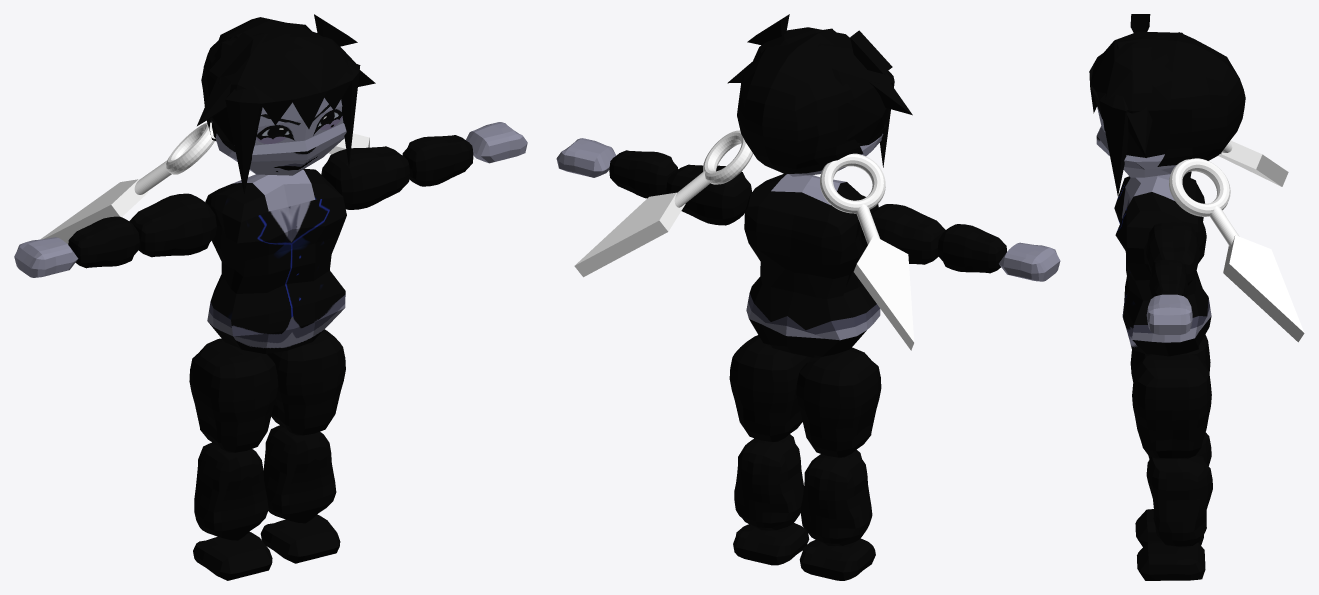
The model's file is student-09.glb.
3 views of the same model, side by side, from view 1: azimuth 30°, elevation 25°; view 2: azimuth 150°, elevation 25°; view 3: azimuth 270°, elevation 25° (orthographic). The views are drawn at different scales.
Parts seen in each view (by area): view 1: head.004, body.004, arms, leg-right, leg-left; view 2: head.004, body.004, leg-right, arms, leg-left, body, body.001; view 3: head.004, leg-left, body.004, arms, leg-right, body, body.001.
Boxes of the visible parts, bbox=[...] form: head.004: bbox=[40, 14, 375, 244]; body.004: bbox=[205, 168, 346, 353]; arms: bbox=[14, 122, 527, 277]; leg-right: bbox=[189, 338, 278, 580]; leg-left: bbox=[260, 329, 345, 563]; head.004: bbox=[574, 14, 914, 350]; body.004: bbox=[744, 174, 878, 357]; leg-right: bbox=[796, 347, 881, 580]; arms: bbox=[556, 138, 1060, 281]; leg-left: bbox=[729, 335, 812, 565]; body: bbox=[746, 302, 880, 340]; body.001: bbox=[748, 293, 879, 334]; head.004: bbox=[1089, 14, 1304, 342]; leg-left: bbox=[1132, 354, 1212, 580]; body.004: bbox=[1114, 174, 1211, 356]; arms: bbox=[1146, 171, 1200, 334]; leg-right: bbox=[1130, 334, 1211, 546]; body: bbox=[1132, 307, 1211, 342]; body.001: bbox=[1133, 298, 1209, 333].
Bounding box in the file's own units: 17.2 × 17.73 × 6.6.
29 materials, 2 textured.
